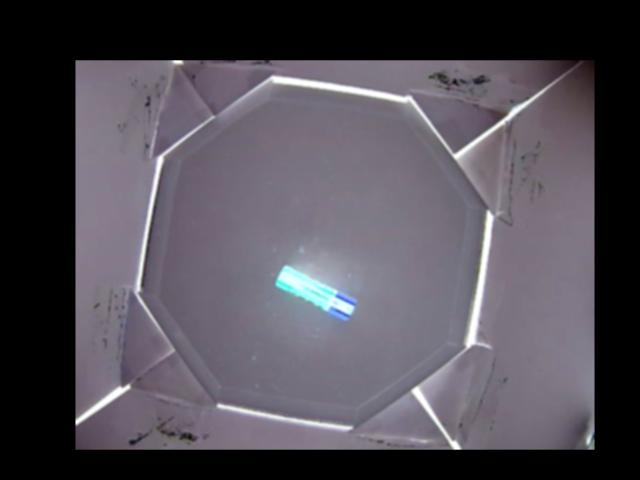Battery: (273, 263, 357, 320)
